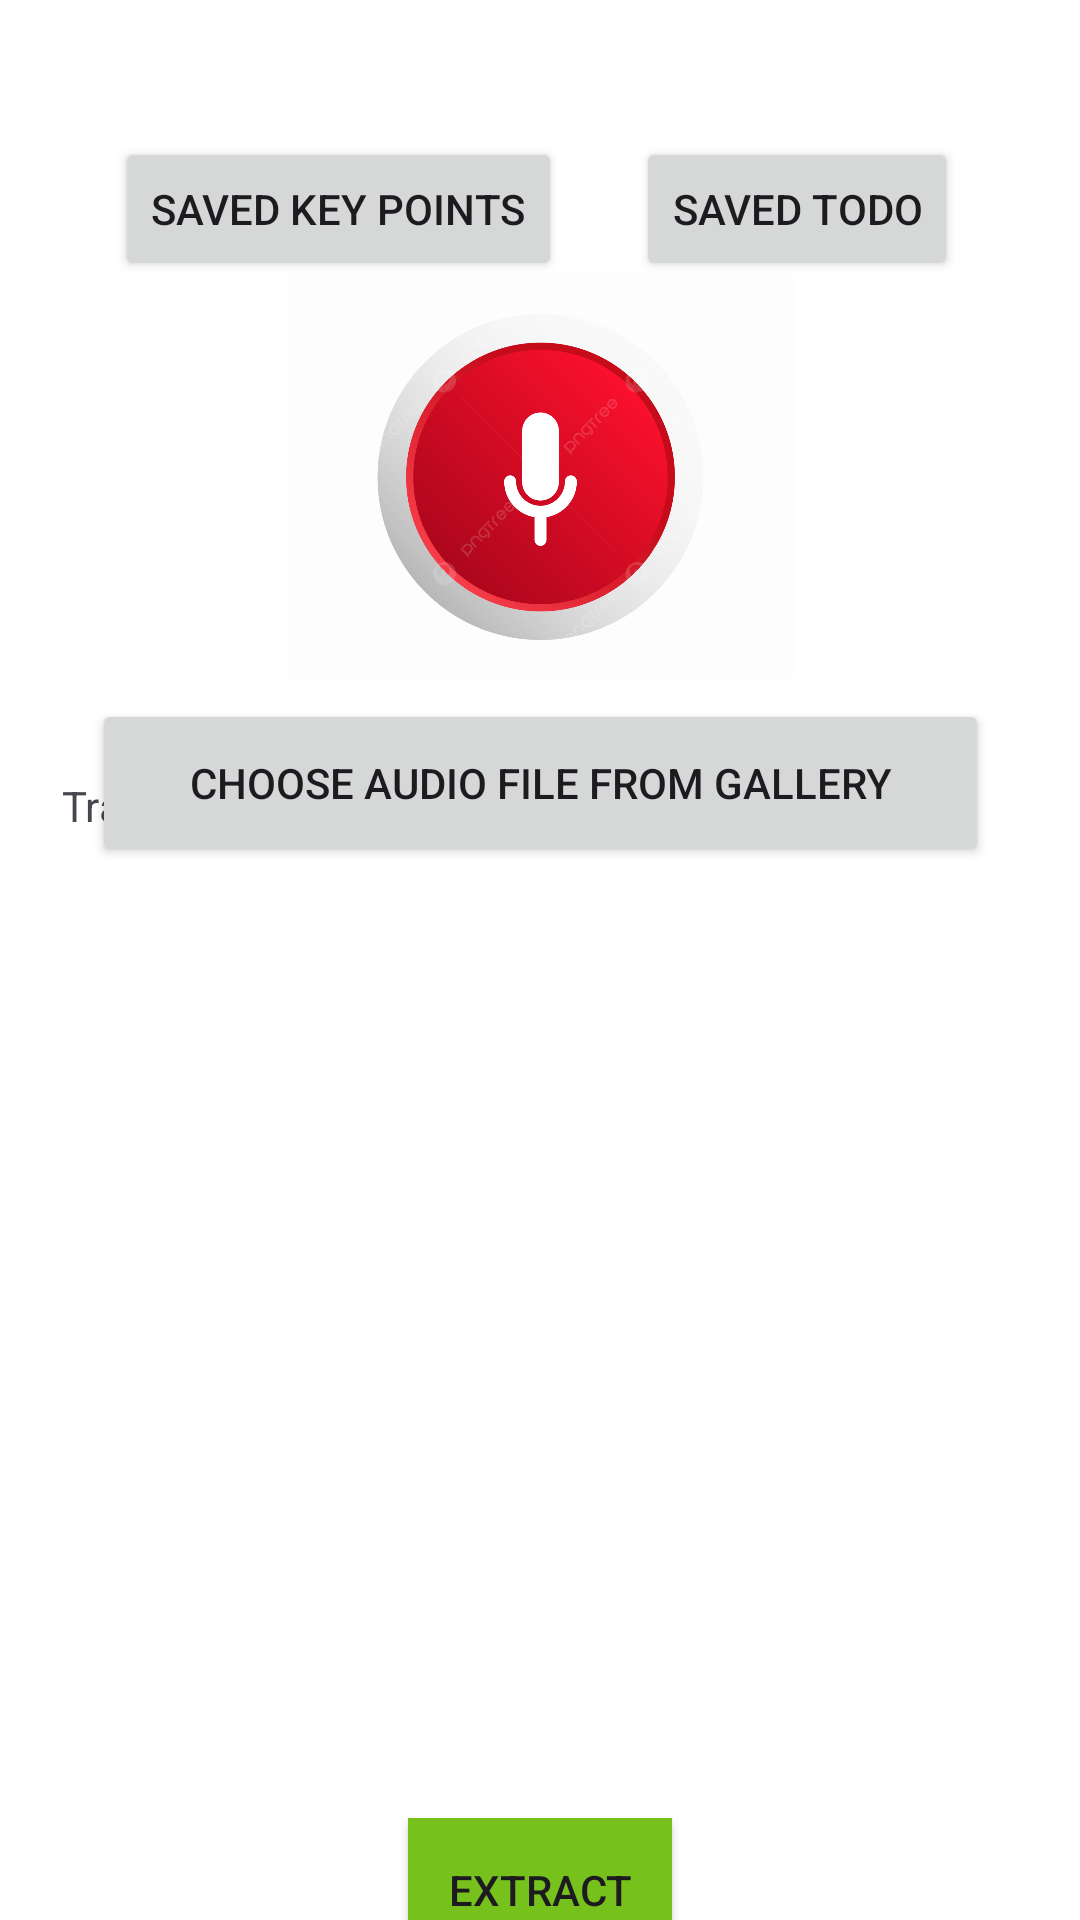

Named icons in this screenshot (1080px×1920px) and their bounding boxes, bbox=[x1, y1, x2, y2]:
rec: bbox=[378, 342, 675, 640]
